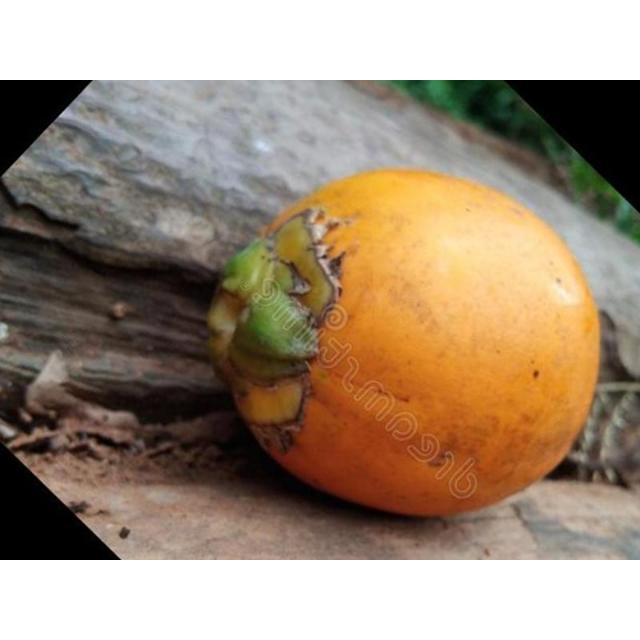good: (207, 169, 602, 520)
